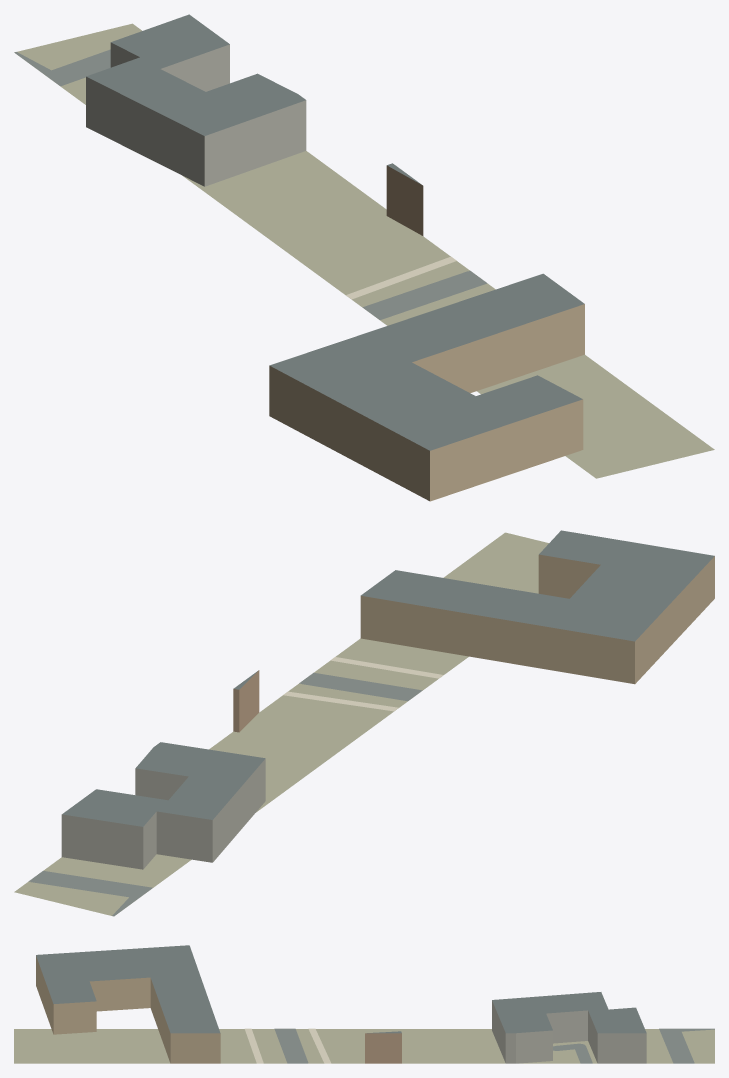
Rendered from sector-3_-1.glb.
The picture shows the model from 3 angles, top to bottom: view 1: azimuth 30°, elevation 25°; view 2: azimuth 150°, elevation 25°; view 3: azimuth 270°, elevation 25°; orthographic projection. The views are drawn at different scales.
Visible parts, largest first — view 1: 3:-1-facade, 3:-1-roof, 3:-1-ground, 3:-1-road, 3:-1-paving; view 2: 3:-1-facade, 3:-1-roof, 3:-1-ground, 3:-1-road, 3:-1-paving; view 3: 3:-1-ground, 3:-1-roof, 3:-1-facade, 3:-1-road, 3:-1-paving.
Part boxes in pixels (x1,y1,x2,y2): 3:-1-facade: (86, 42, 584, 501); 3:-1-roof: (86, 14, 584, 450); 3:-1-ground: (17, 23, 714, 478); 3:-1-road: (14, 49, 487, 319); 3:-1-paving: (346, 256, 456, 299); 3:-1-facade: (61, 554, 714, 869); 3:-1-roof: (62, 530, 714, 826); 3:-1-ground: (14, 532, 548, 915); 3:-1-road: (28, 672, 422, 916); 3:-1-paving: (283, 657, 443, 711); 3:-1-ground: (14, 1029, 714, 1063); 3:-1-roof: (36, 945, 646, 1033); 3:-1-facade: (36, 956, 646, 1063); 3:-1-road: (274, 1028, 714, 1063); 3:-1-paving: (245, 1028, 331, 1063).
Size of the model in its own units: 59.44 by 9.6 by 200.
